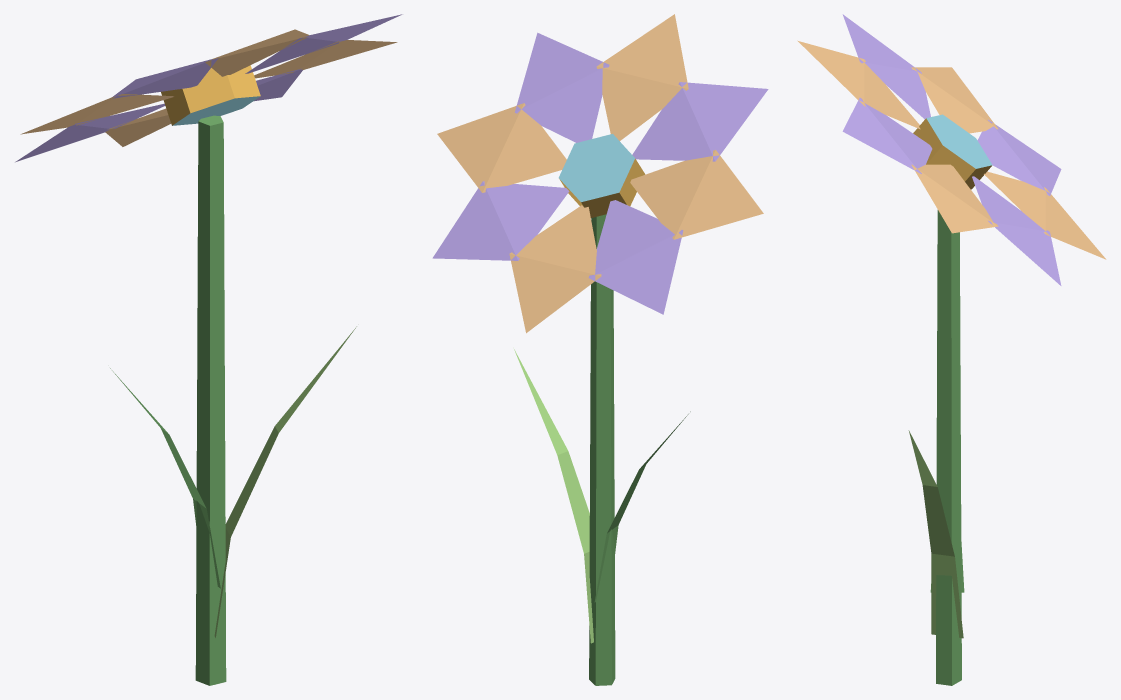
File: deco_cosmos.obj
3 views of the same model, side by side, from view 1: azimuth 30°, elevation 25°; view 2: azimuth 150°, elevation 25°; view 3: azimuth 270°, elevation 25° (orthographic). The views are drawn at different scales.
Visible parts, largest first — view 1: deco_cosmos; view 2: deco_cosmos; view 3: deco_cosmos.
Boxes of the visible parts, x1,y1,x2,y2 form: deco_cosmos: (15,14,402,685); deco_cosmos: (432,14,768,685); deco_cosmos: (797,14,1106,685).
Bounding box in the file's own units: 0.0326 × 0.0585 × 0.0257.
Materials: 1 (1 with a texture image).
